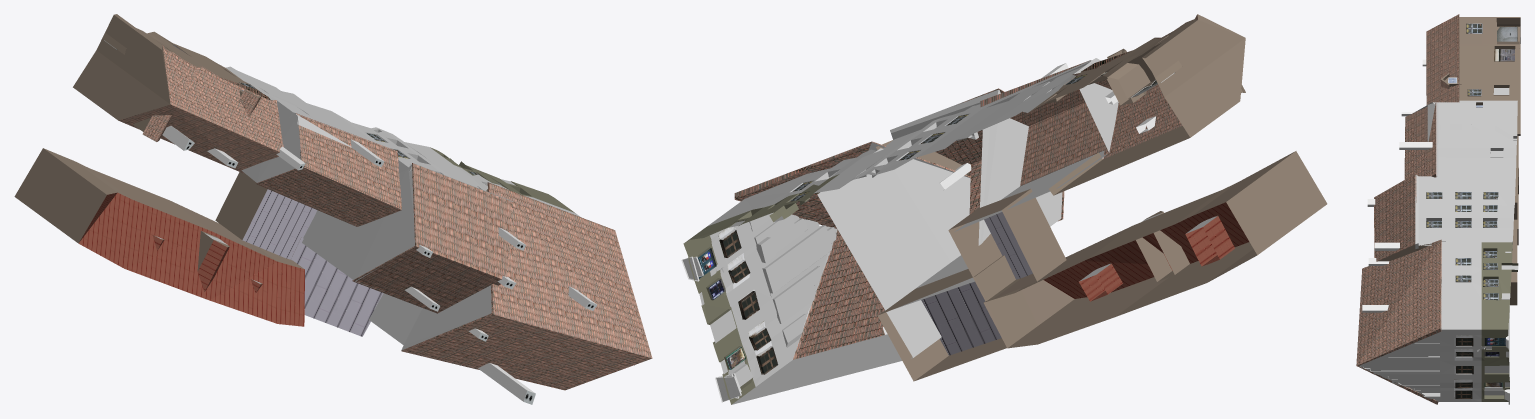
File: p43_3-origo.obj
3 renders of one model, left to right at view 1: azimuth 30°, elevation 25°; view 2: azimuth 150°, elevation 25°; view 3: azimuth 270°, elevation 25°, orthographic. The views are drawn at different scales.
Parts seen in each view (by area): view 1: polySurface61; view 2: polySurface61; view 3: polySurface61.
Part boxes in pixels (bbox=[...]): polySurface61: bbox=[14, 14, 652, 404]; polySurface61: bbox=[681, 14, 1327, 404]; polySurface61: bbox=[1356, 14, 1520, 404].
Size of the model in its own units: 54.12 by 41 by 22.47.
